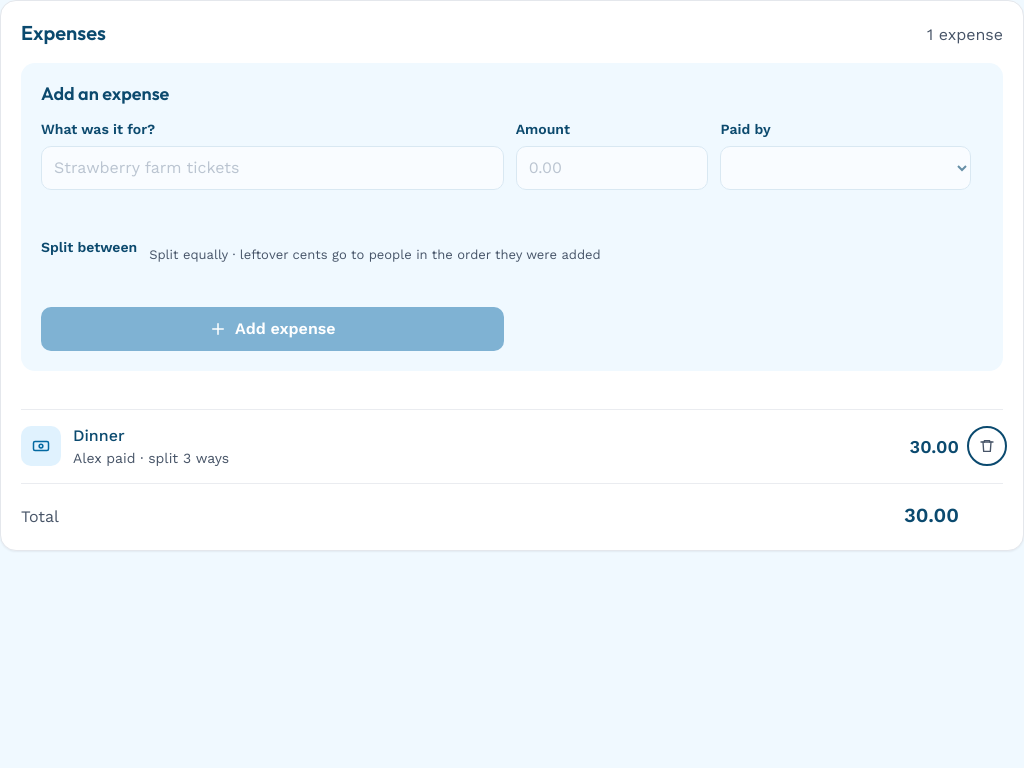
ExpensesPanelComponent › names each trash control with the description and opens the delete dialog with Cancel focused (F4.R9)
Click the button named "Delete Dinner" at x=987, y=446, box x1=971 y1=430 x2=1003 y2=462
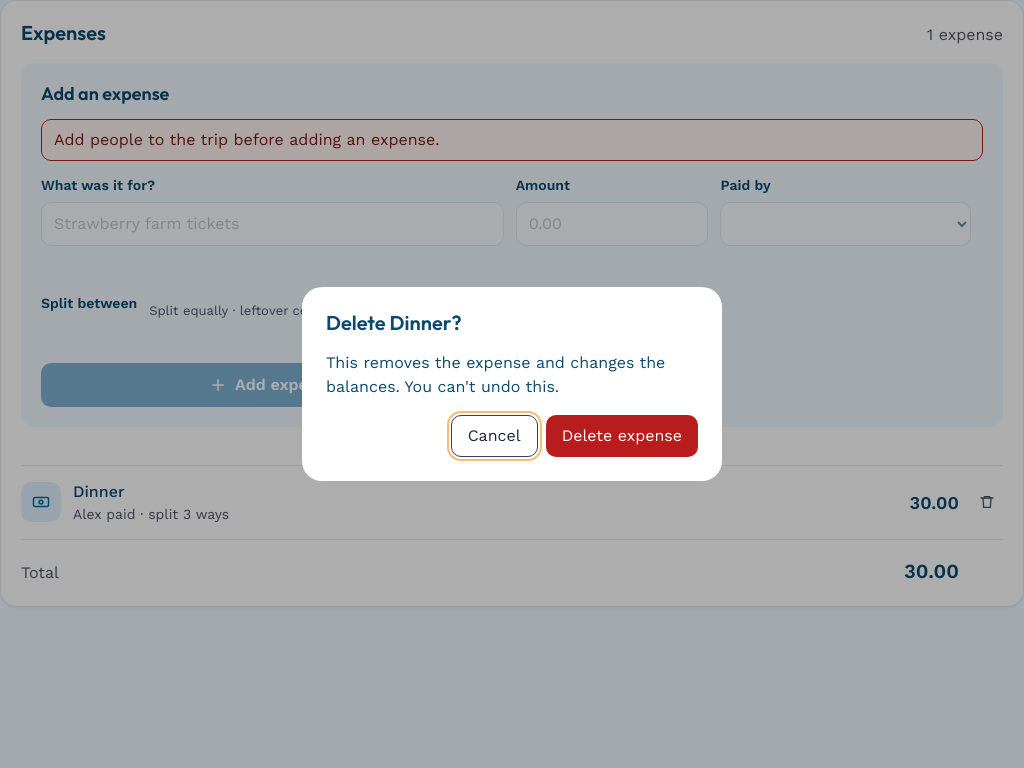
expect the dialog "Delete Dinner?" is shown: met, box x1=302 y1=287 x2=722 y2=481
expect the text "This removes the expense and changes the balances. You can't undo this." is shown: met, box x1=326 y1=351 x2=698 y2=399
expect the button "Delete expense" is shown: met, box x1=546 y1=415 x2=698 y2=457
